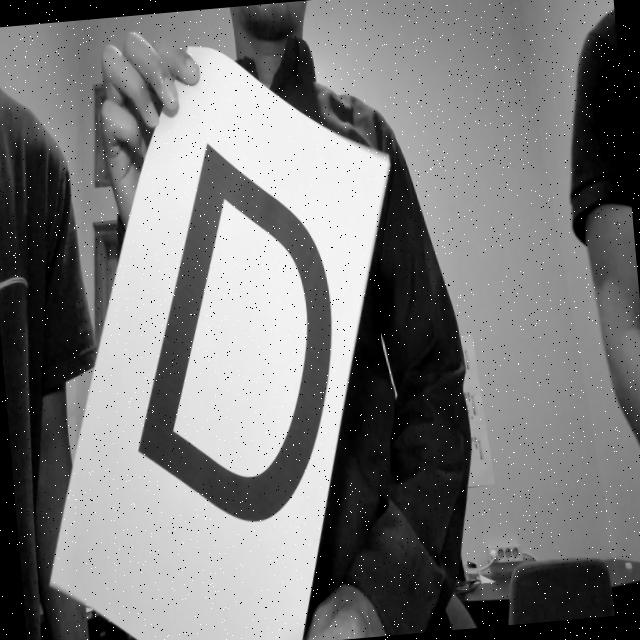d: (106, 120, 364, 536)
